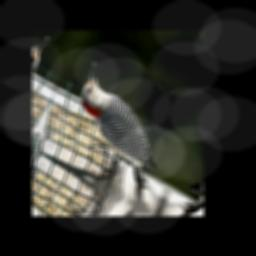Woodpecker: (61, 61, 180, 190)
